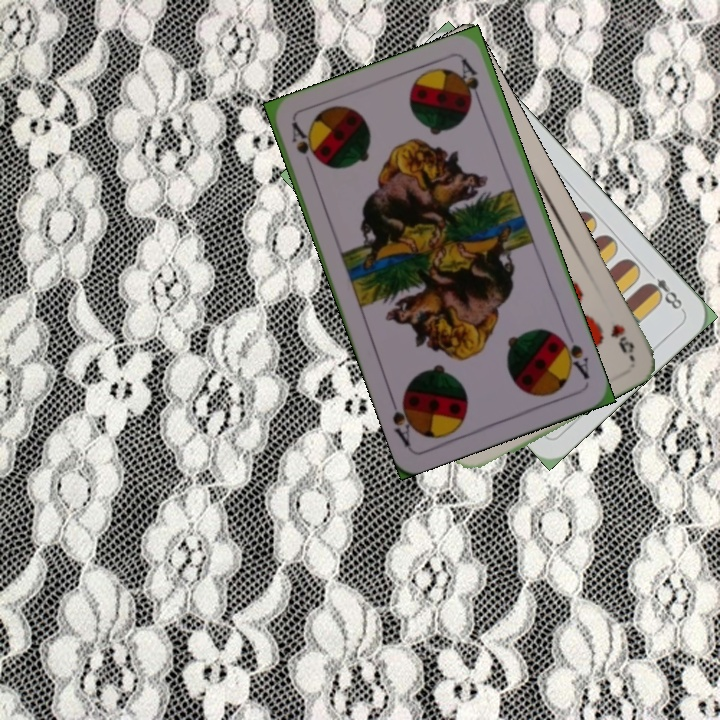E8: (641, 265, 686, 314)
H9: (605, 320, 637, 360)
SA: (554, 327, 592, 382), (287, 118, 320, 176)
